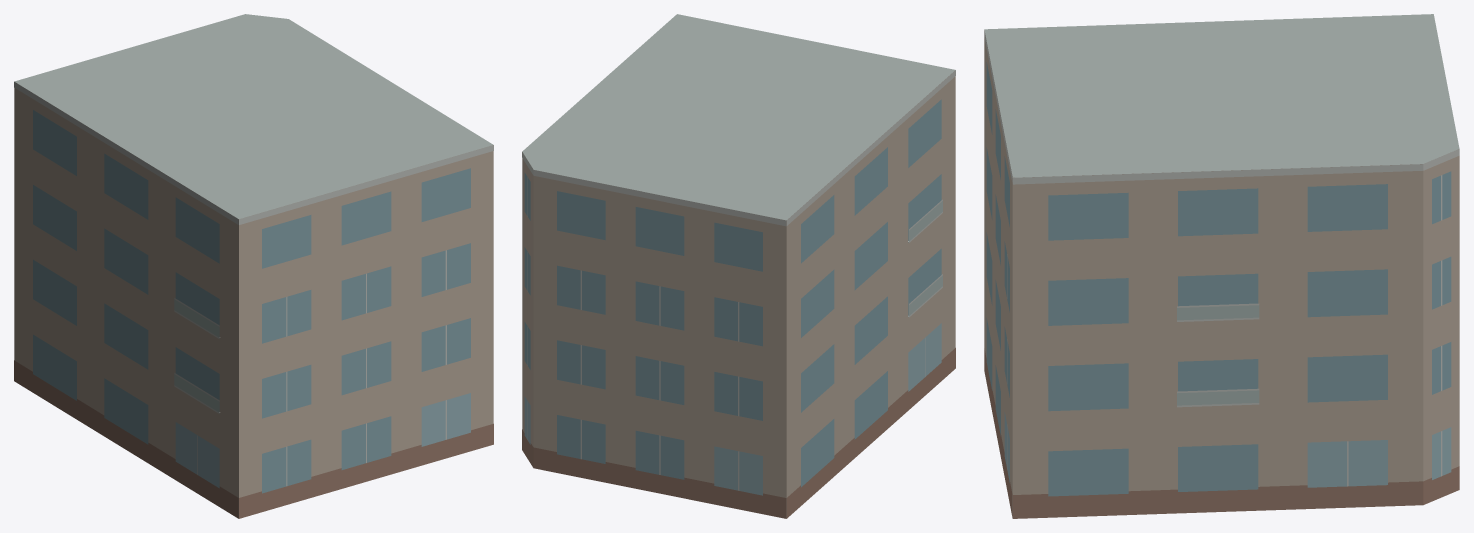
The model's file is survey-upis-32621009.glb.
3 renders of one model, left to right at view 1: azimuth 30°, elevation 25°; view 2: azimuth 150°, elevation 25°; view 3: azimuth 270°, elevation 25°, orthographic. The views are drawn at different scales.
Visible parts, largest first — view 1: survey-upis-32621009.tmp; view 2: survey-upis-32621009.tmp; view 3: survey-upis-32621009.tmp.
Boxes of the visible parts, x1,y1,x2,y2 form: survey-upis-32621009.tmp: (14,14,493,518); survey-upis-32621009.tmp: (522,14,955,518); survey-upis-32621009.tmp: (984,14,1459,518).
Size of the model in its own units: 12.62 by 12.25 by 15.48.
